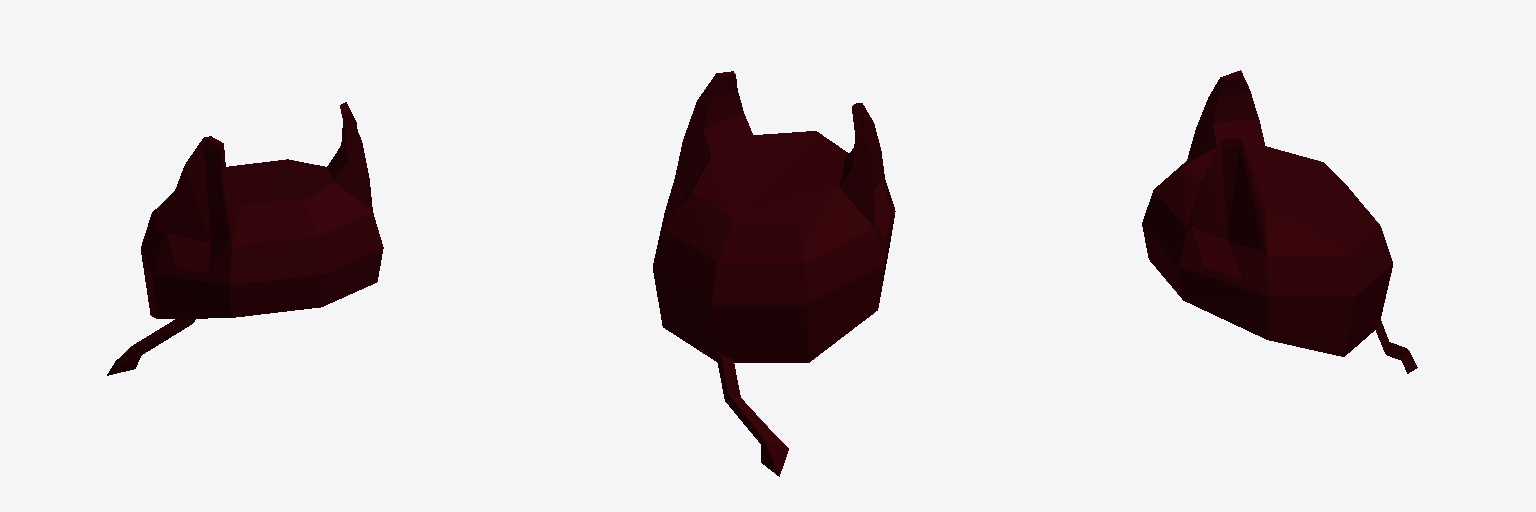
The model's file is Imphat.obj.
3 views of the same model, side by side, from view 1: azimuth 30°, elevation 25°; view 2: azimuth 150°, elevation 25°; view 3: azimuth 270°, elevation 25° (orthographic).
Parts seen in each view (by area): view 1: ImpHat; view 2: ImpHat; view 3: ImpHat.
Boxes of the visible parts, x1=… form: ImpHat: x1=107, y1=102, x2=383, y2=375; ImpHat: x1=653, y1=71, x2=895, y2=476; ImpHat: x1=1142, y1=70, x2=1417, y2=373.
Size of the model in its own units: 2.44 by 3.22 by 2.67.